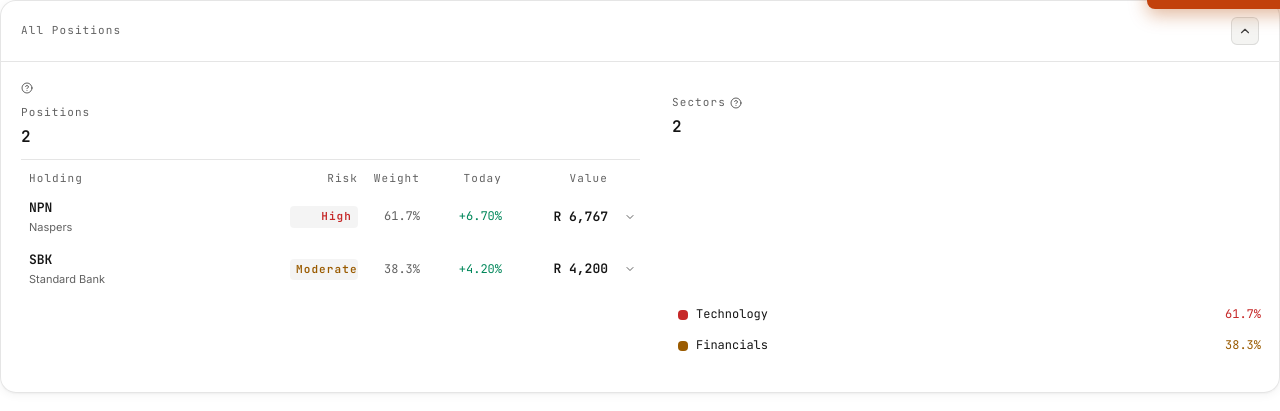
DashboardHoldingsTable › folds away from its header, the same way the concentration card does
Click the button named "collapse all positions": (1245, 31) [1231,17,1259,45]
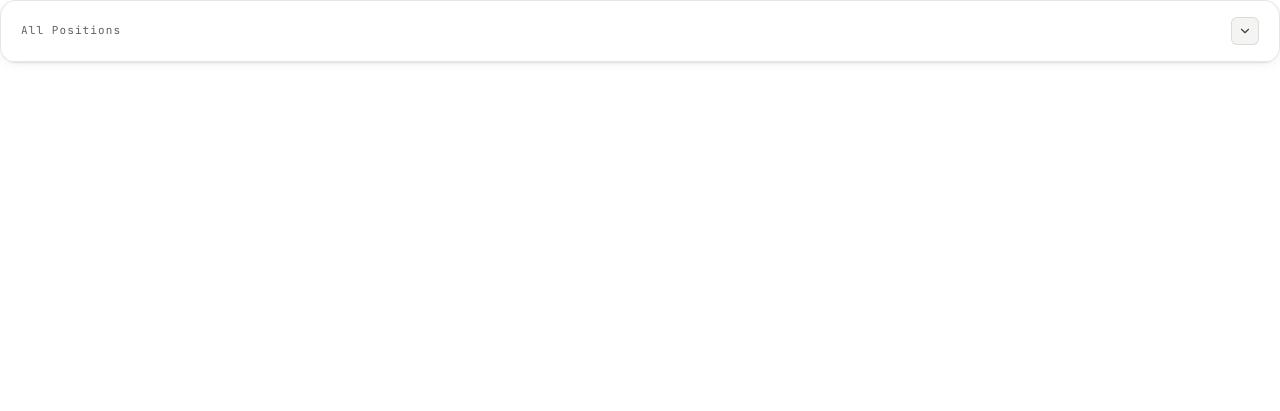
Expected: the text "All Positions" is shown, [21,22,121,40]
Result: the button named "expand all positions" is collapsed at [1231,17,1259,45]
